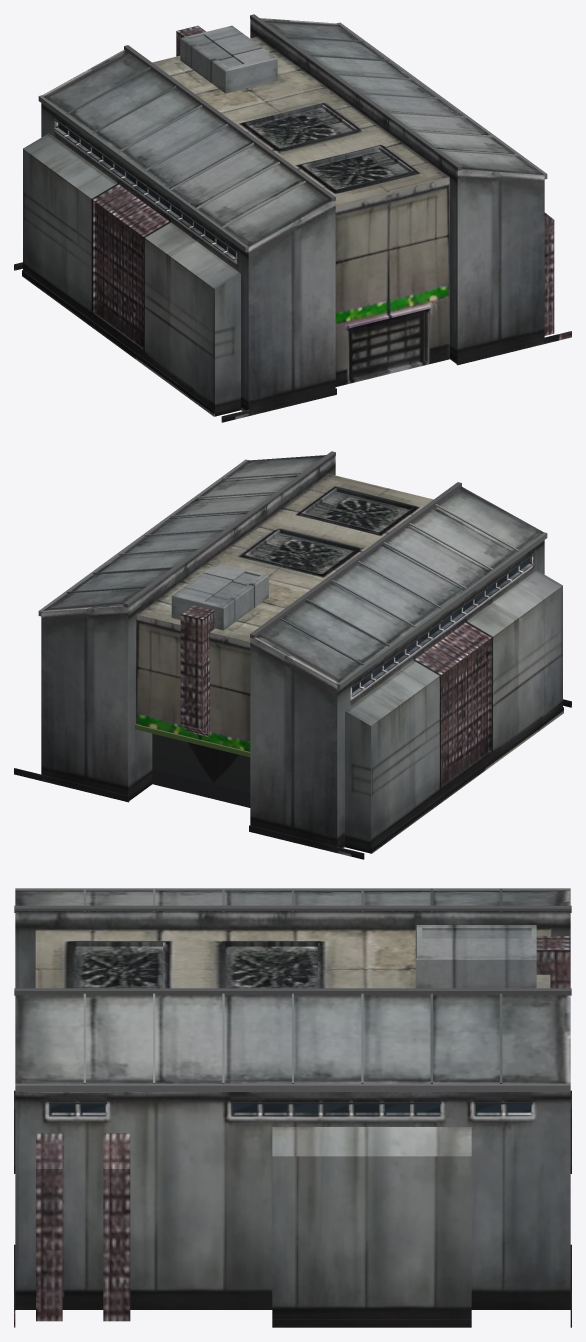
File: industrialcomplex_cad.glb
3 renders of one model, top to bottom at view 1: azimuth 30°, elevation 25°; view 2: azimuth 150°, elevation 25°; view 3: azimuth 270°, elevation 25°, orthographic. The views are drawn at different scales.
Parts seen in each view (by area): view 1: Object10; view 2: Object10; view 3: Object10.
Part boxes in pixels (<box>): Object10: <box>14,14,571,422</box>; Object10: <box>14,451,571,859</box>; Object10: <box>14,888,571,1327</box>.
Bounding box in the file's own units: 24.29 × 13.59 × 25.03.
Materials: 1 (1 with a texture image).
